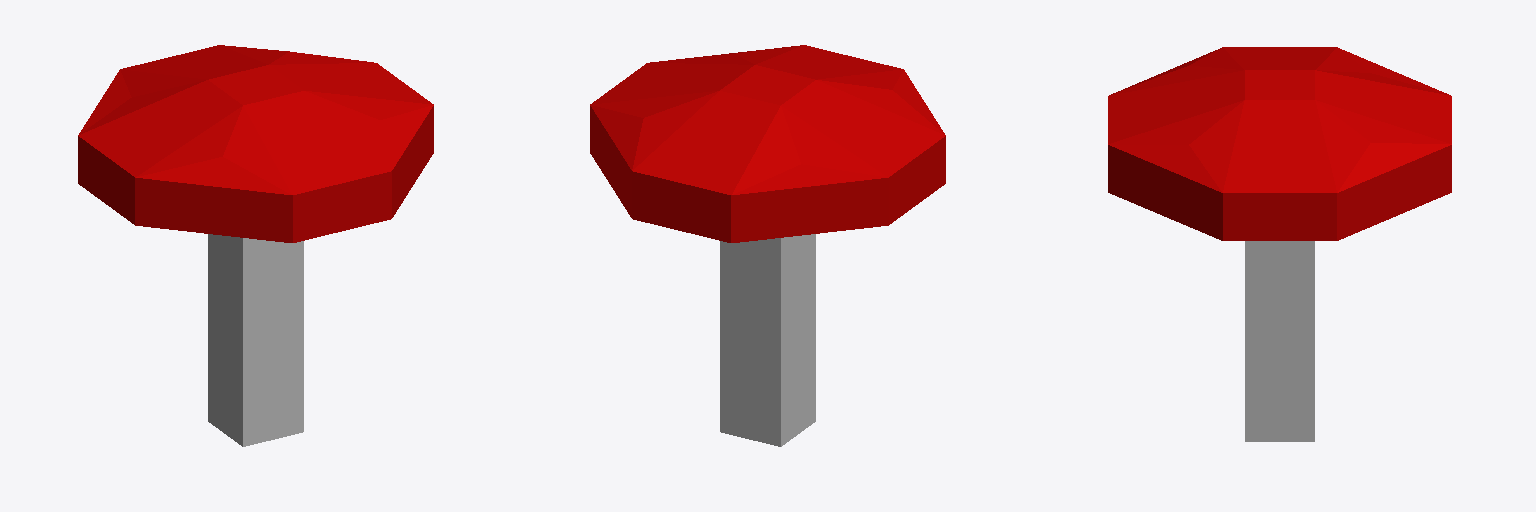
File: big_mushroom.obj
3 renders of one model, left to right at view 1: azimuth 30°, elevation 25°; view 2: azimuth 150°, elevation 25°; view 3: azimuth 270°, elevation 25°, orthographic.
Parts seen in each view (by area): view 1: Cube_Cube.007; view 2: Cube_Cube.007; view 3: Cube_Cube.007.
Boxes of the visible parts, <box> form: Cube_Cube.007: <box>78,45,433,446</box>; Cube_Cube.007: <box>590,45,945,446</box>; Cube_Cube.007: <box>1108,47,1451,441</box>.
Bounding box in the file's own units: 1.68 × 1.84 × 1.68.